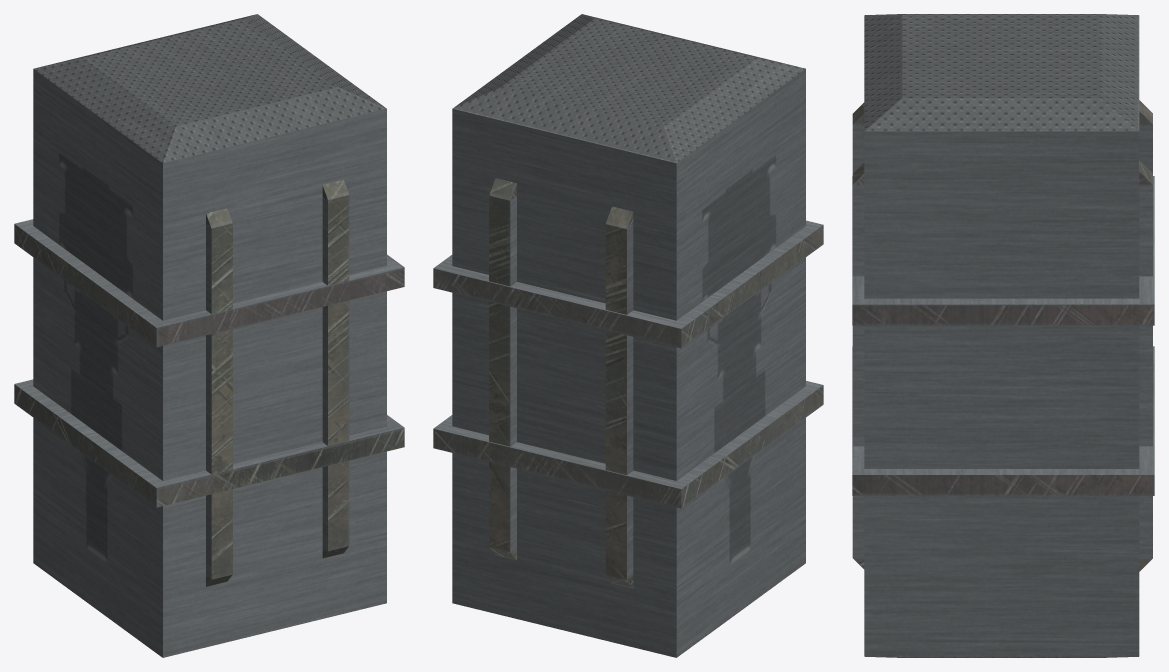
Rendered from crate.fbx.
3 views of the same model, side by side, from view 1: azimuth 30°, elevation 25°; view 2: azimuth 150°, elevation 25°; view 3: azimuth 270°, elevation 25° (orthographic). The views are drawn at different scales.
Visible parts, largest first — view 1: Cube; view 2: Cube; view 3: Cube.
Boxes of the visible parts, bbox=[...] form: Cube: bbox=[14, 14, 404, 657]; Cube: bbox=[433, 14, 823, 657]; Cube: bbox=[852, 14, 1154, 657].
Size of the model in its own units: 221 by 449 by 220.
